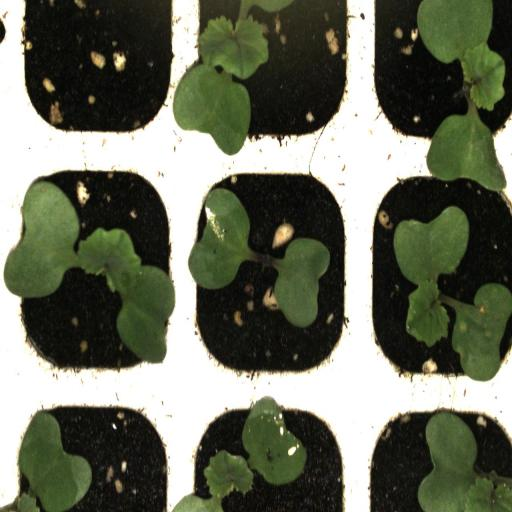noseedling: (12, 0, 185, 147)
seedling: (9, 152, 186, 386), (186, 158, 360, 394), (359, 156, 512, 396), (187, 1, 360, 152), (360, 0, 512, 155), (183, 390, 359, 512)
